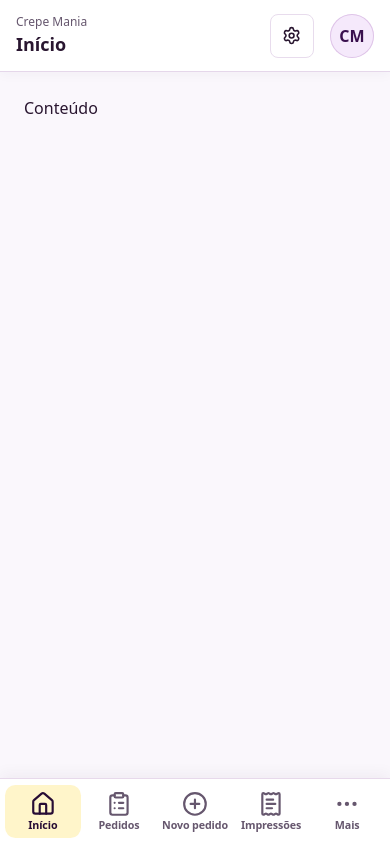
Test case: AdminShell mobile › abre Mais para administrador sem redirecionar ao perfil
Step 1. Click the button "Mais" → click(347, 811), box [309,785,385,838]
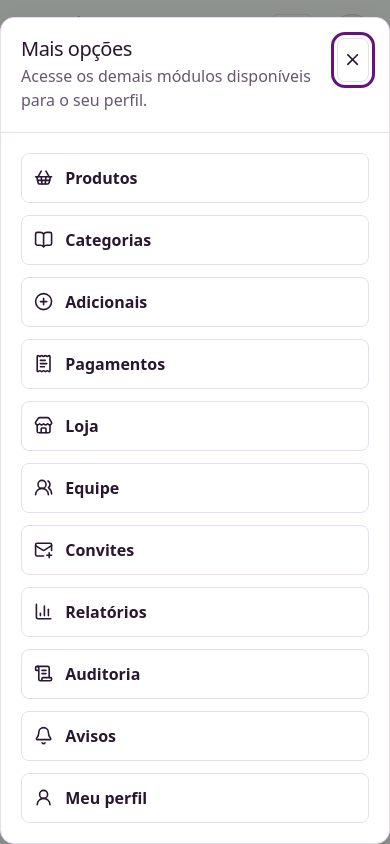
Expected: the heading "Mais opções" is shown, [21,35,132,62]
Expected: the link "Produtos" is shown, [21,153,369,203]
Expected: the link "Equipe" is shown, [21,463,369,513]
